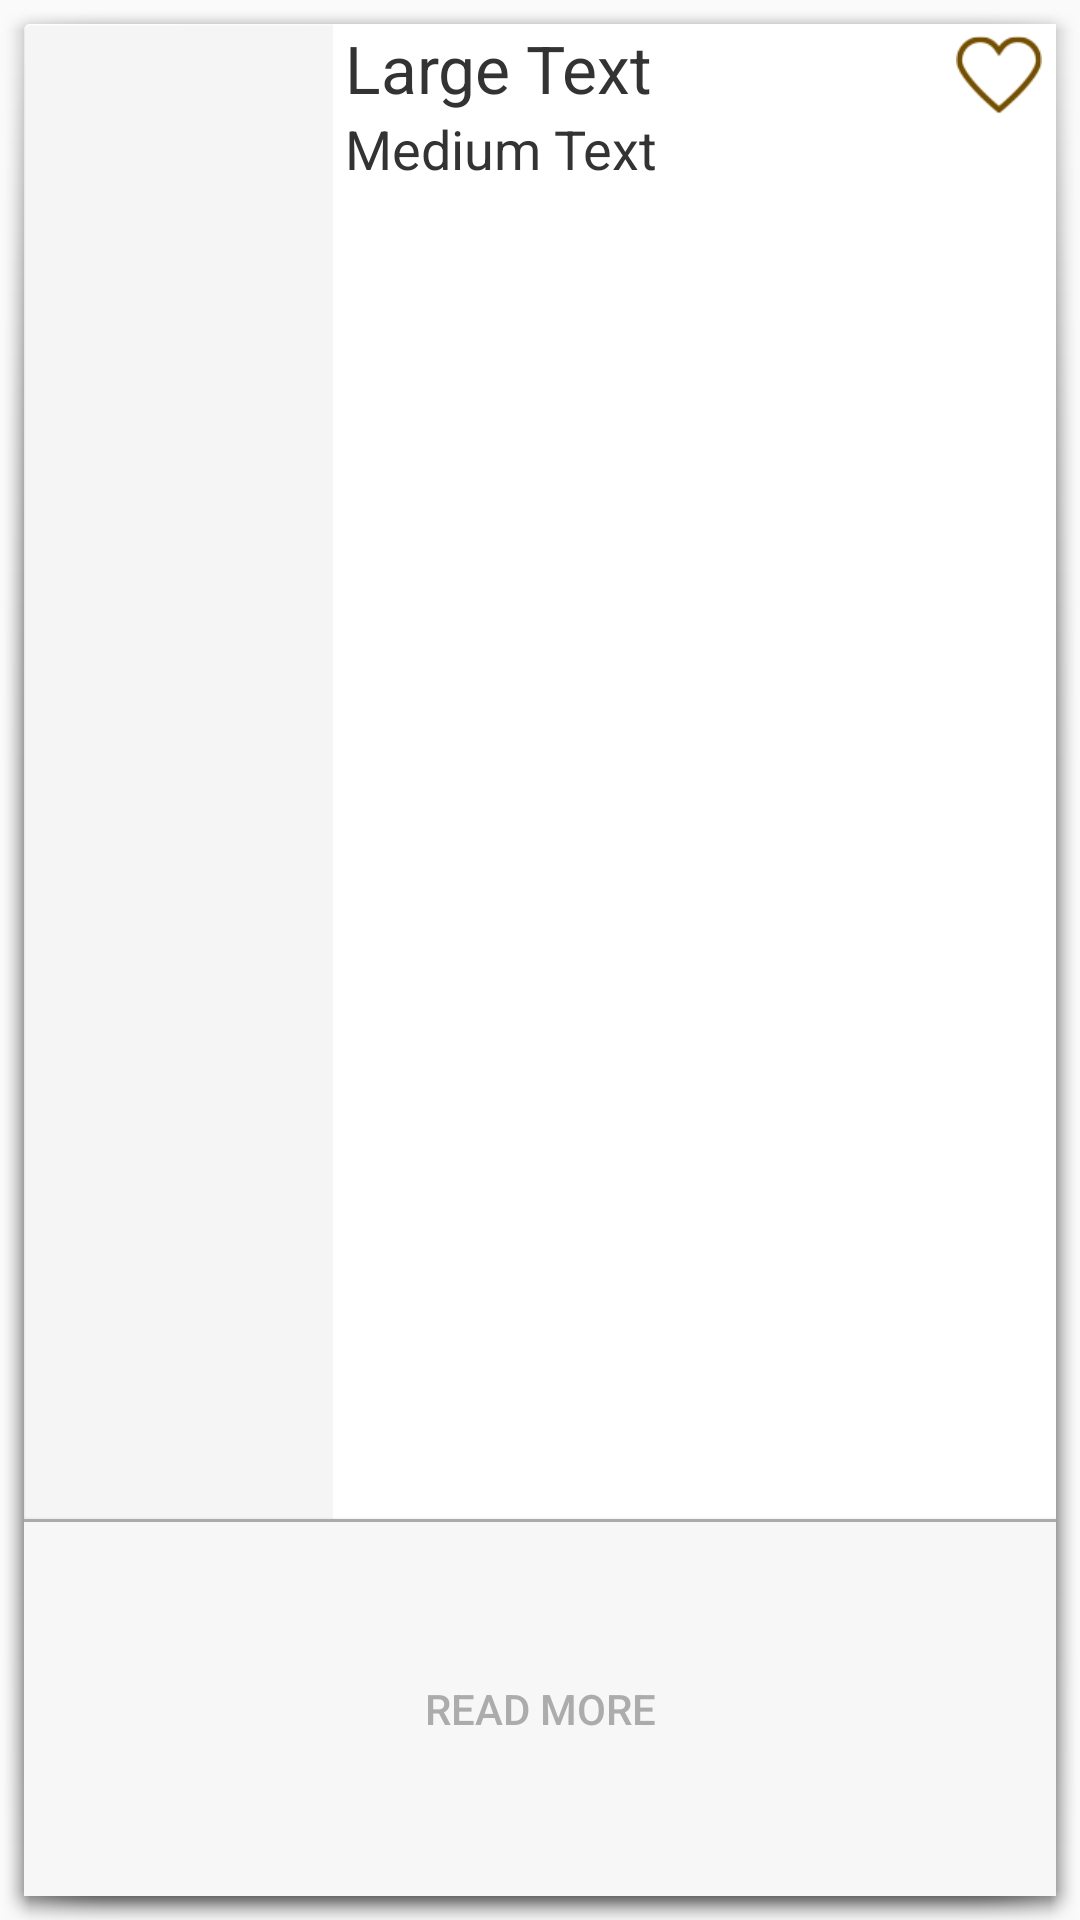

Icon bounding boxes for this 1080x1920 phone screenshot, format (x1, y1, x2, y2):
favorite: (956, 36, 1042, 113)
